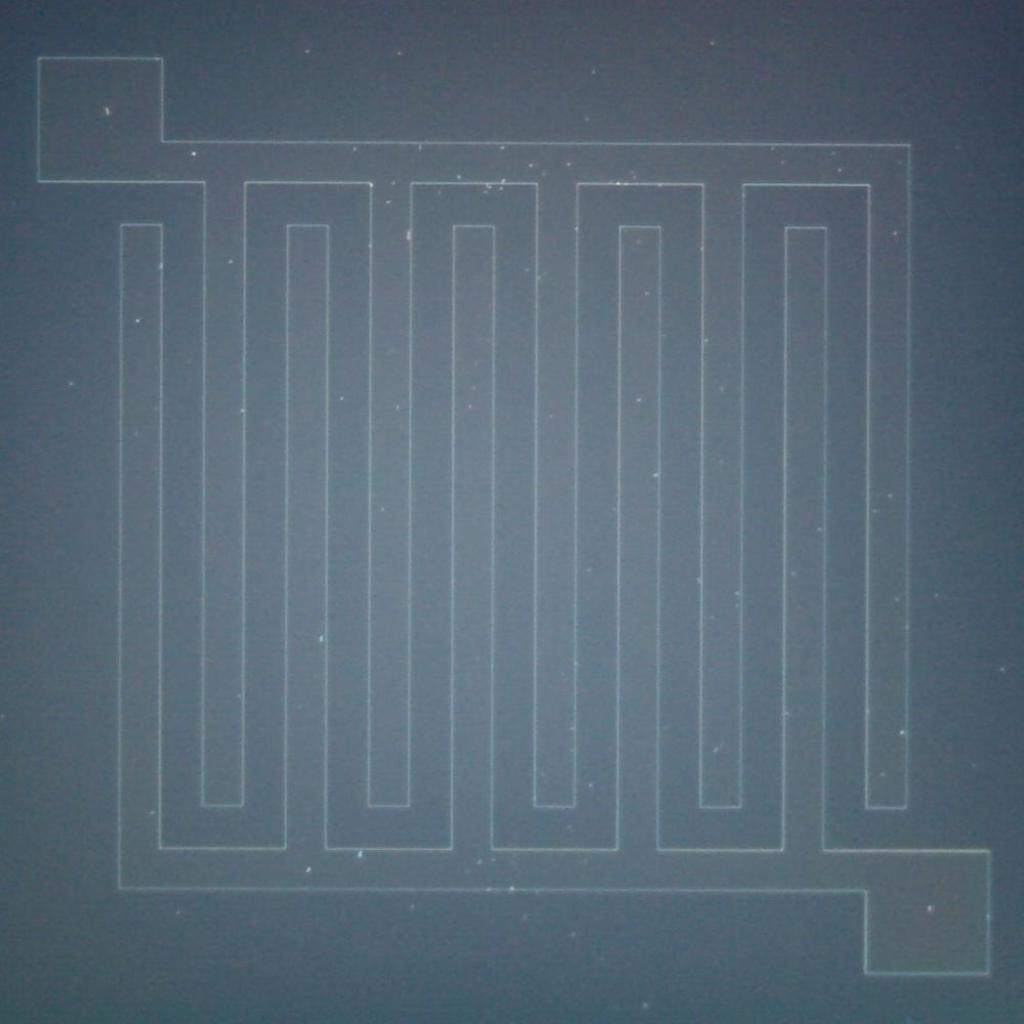dot: (925, 905, 934, 913), (816, 526, 822, 532), (358, 850, 364, 856), (529, 162, 534, 168), (653, 472, 658, 478), (306, 867, 311, 872), (191, 152, 196, 157), (457, 174, 462, 179), (893, 231, 898, 236), (397, 50, 402, 55), (567, 162, 572, 166), (837, 168, 842, 172), (644, 292, 649, 296), (900, 730, 904, 735), (500, 146, 504, 150), (352, 147, 356, 151), (781, 160, 785, 164), (386, 200, 390, 204), (228, 259, 232, 263), (136, 318, 140, 322), (340, 396, 344, 400), (306, 50, 310, 54)
